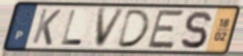D: (114, 8, 152, 49)
E: (145, 9, 186, 50)
K: (30, 8, 63, 47)
L: (59, 9, 84, 47)
S: (179, 9, 213, 50)
V: (95, 7, 128, 49)
